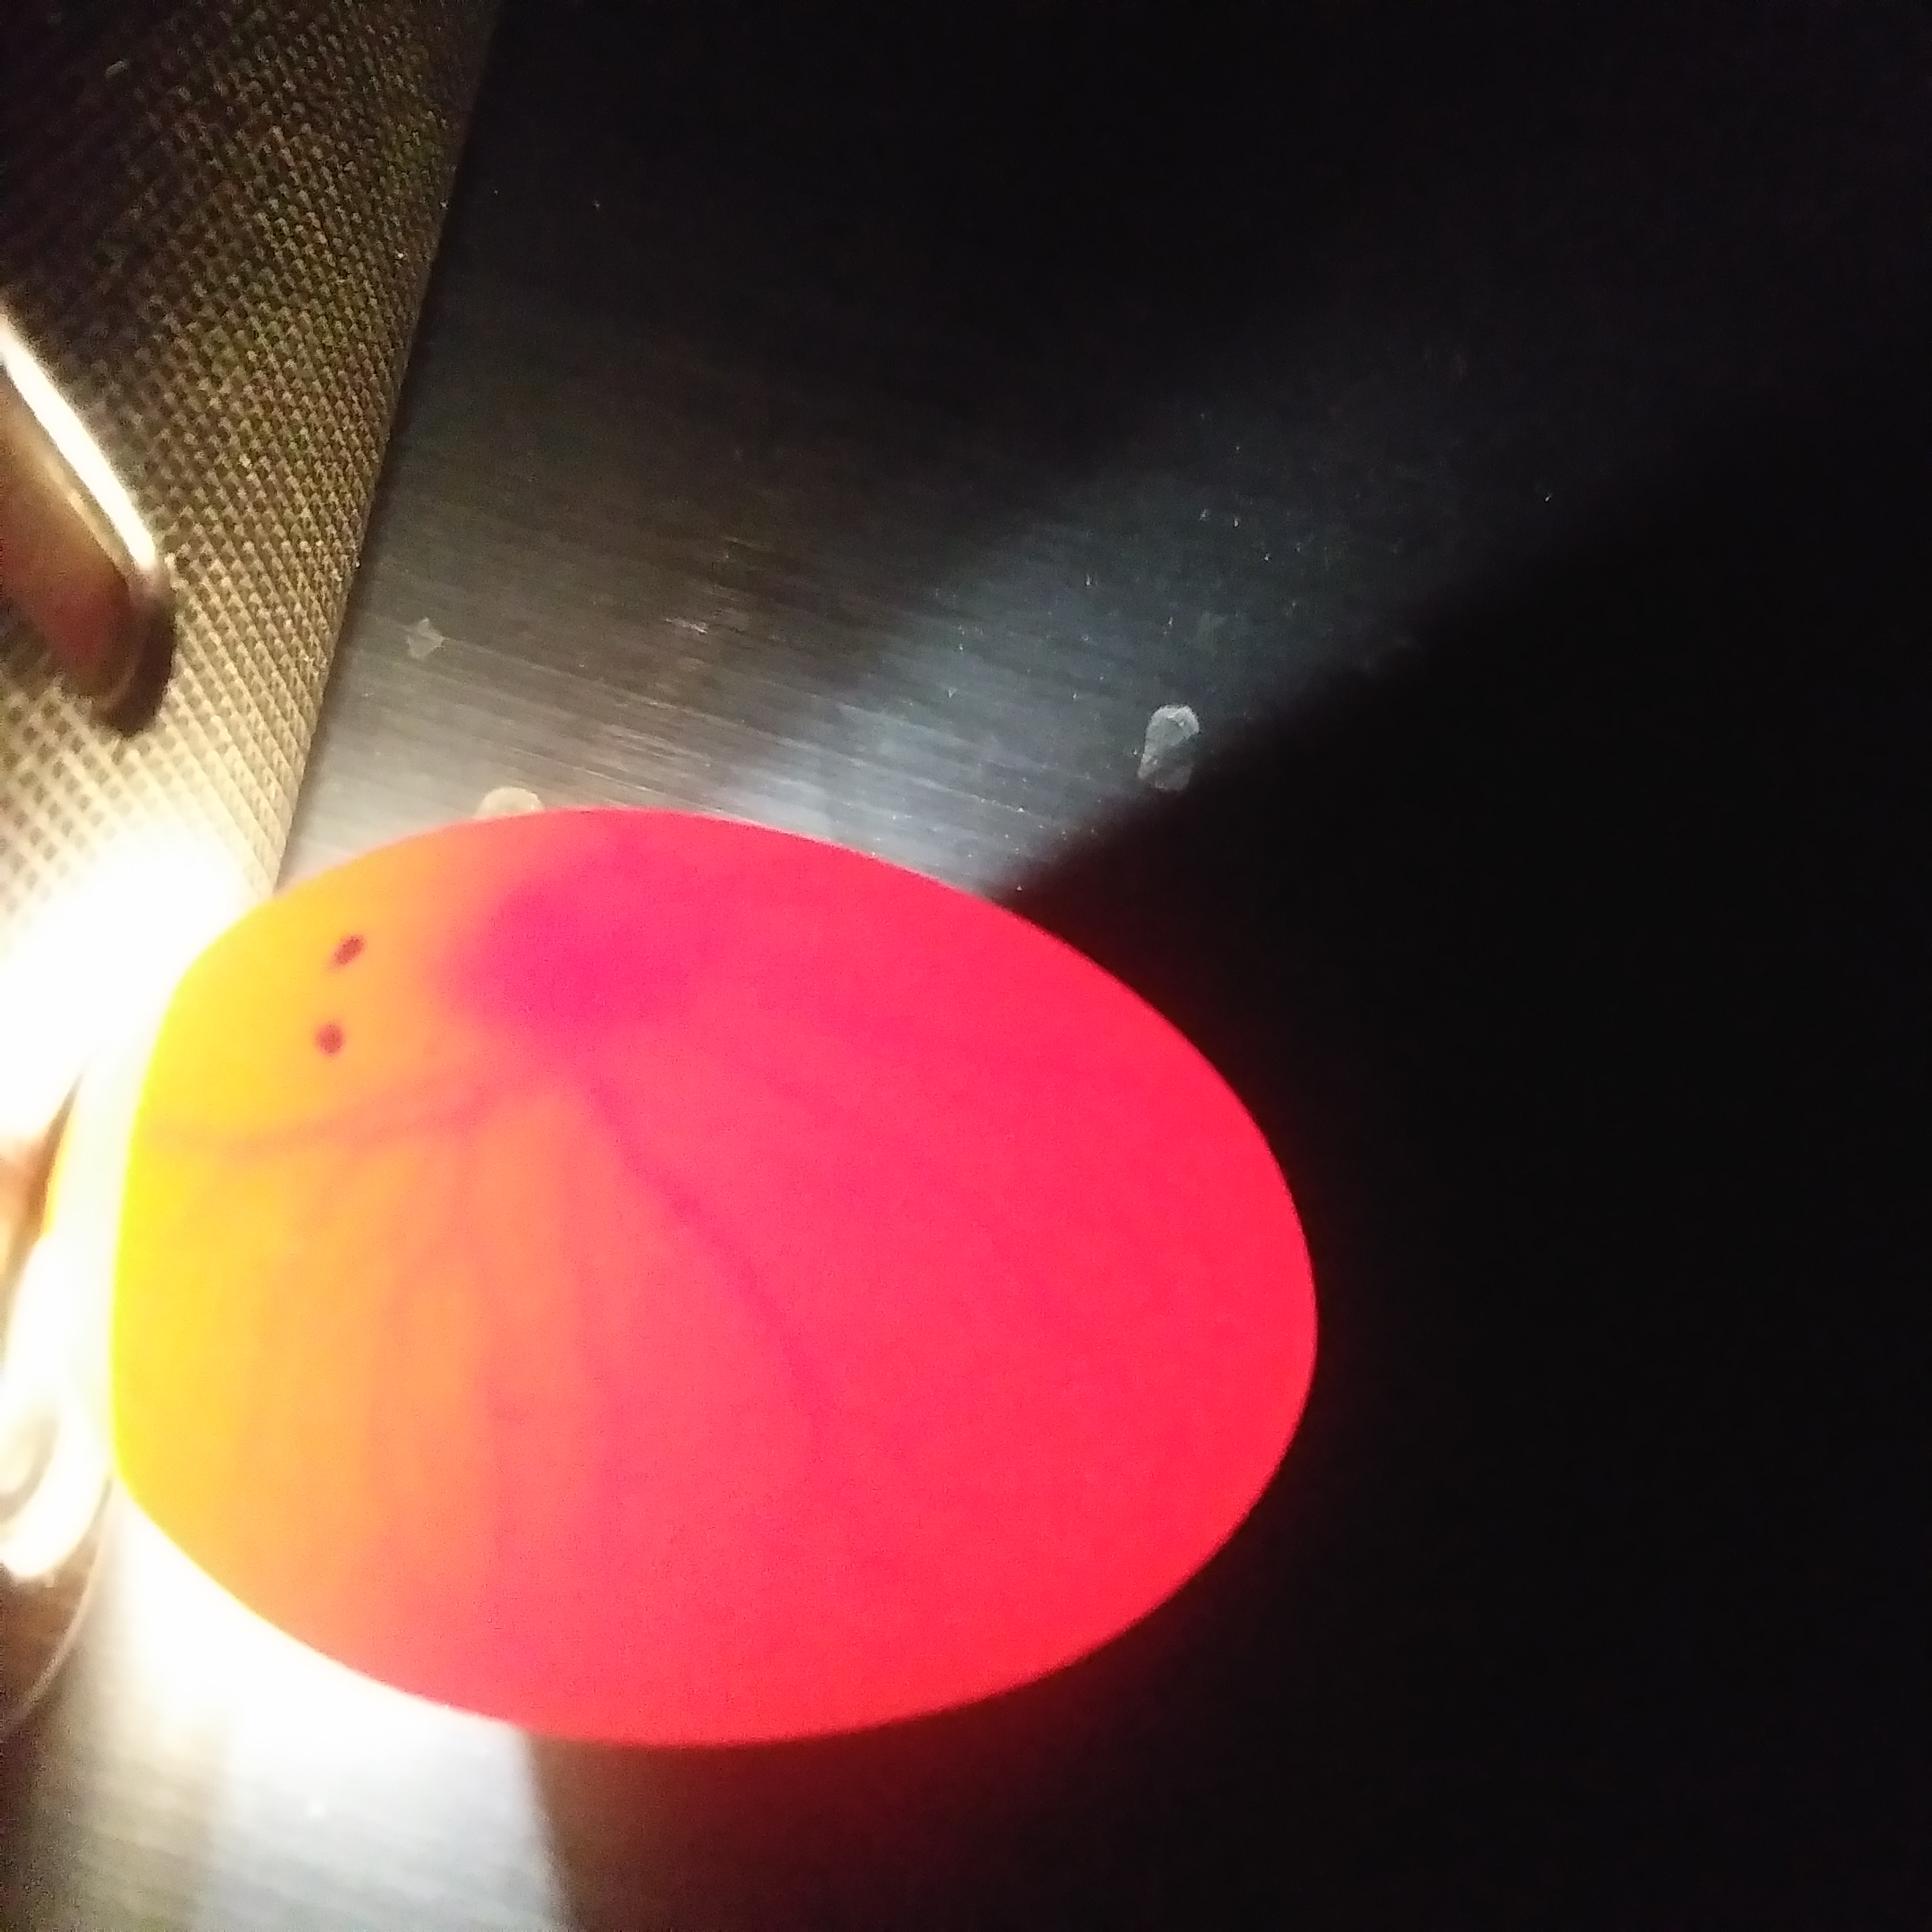bloodcell: (299, 1081, 1090, 1638)
embryo: (471, 872, 717, 1085)
